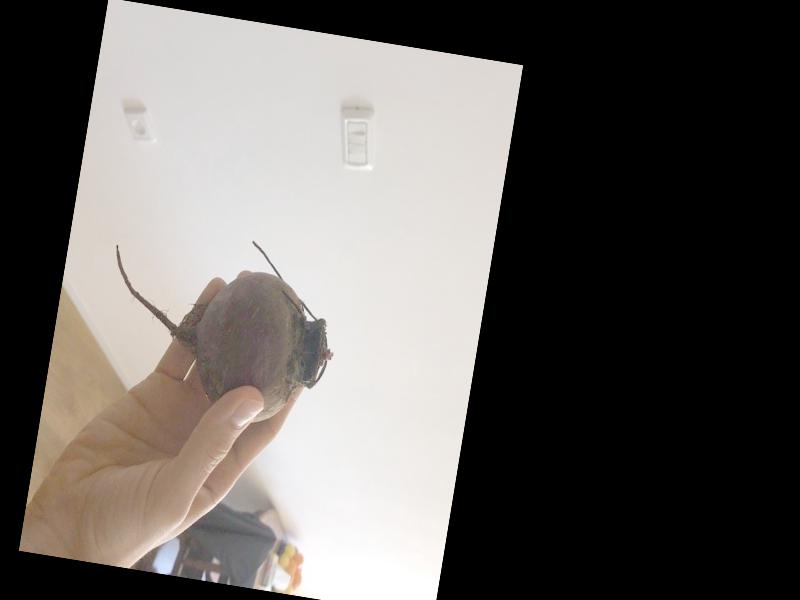Beet: (91, 217, 349, 434)
